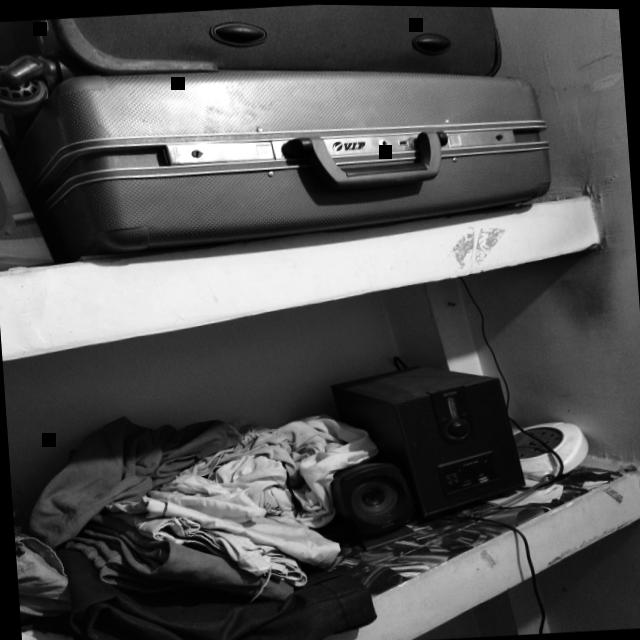luggage: (0, 70, 552, 264), (0, 4, 499, 123)
